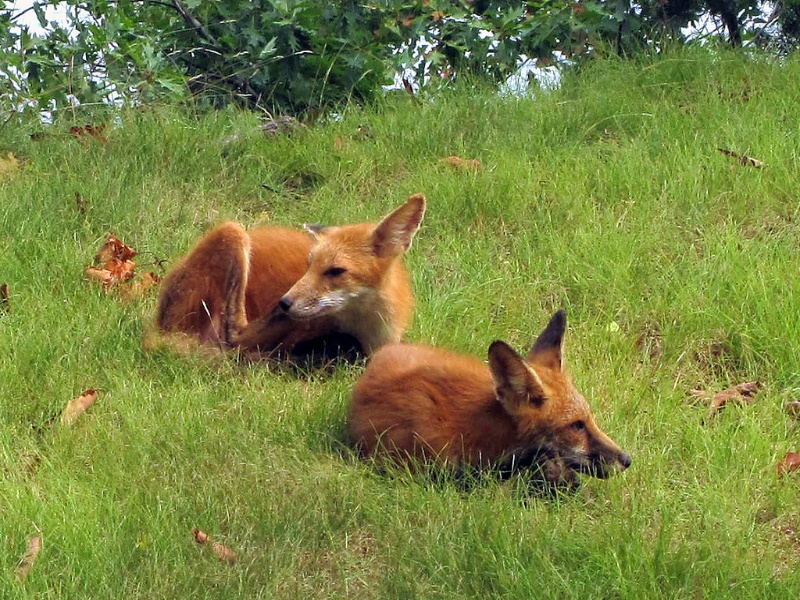fox: (345, 304, 636, 500), (143, 194, 432, 374)
